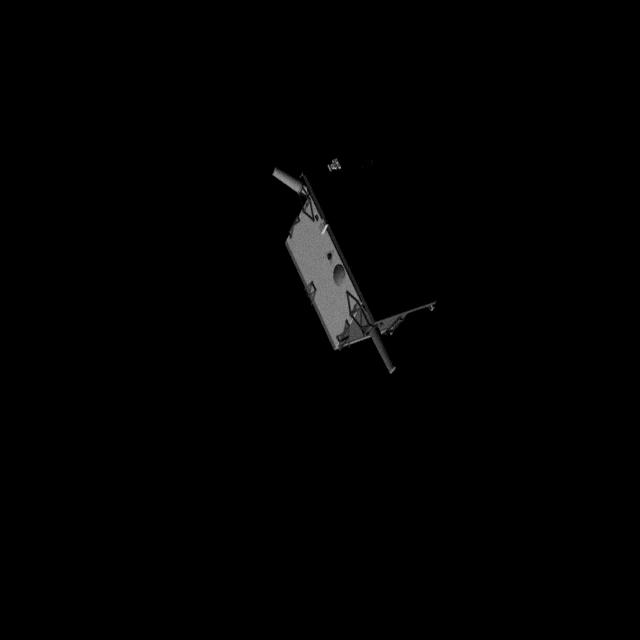medium_debris: (264, 136, 442, 382)
